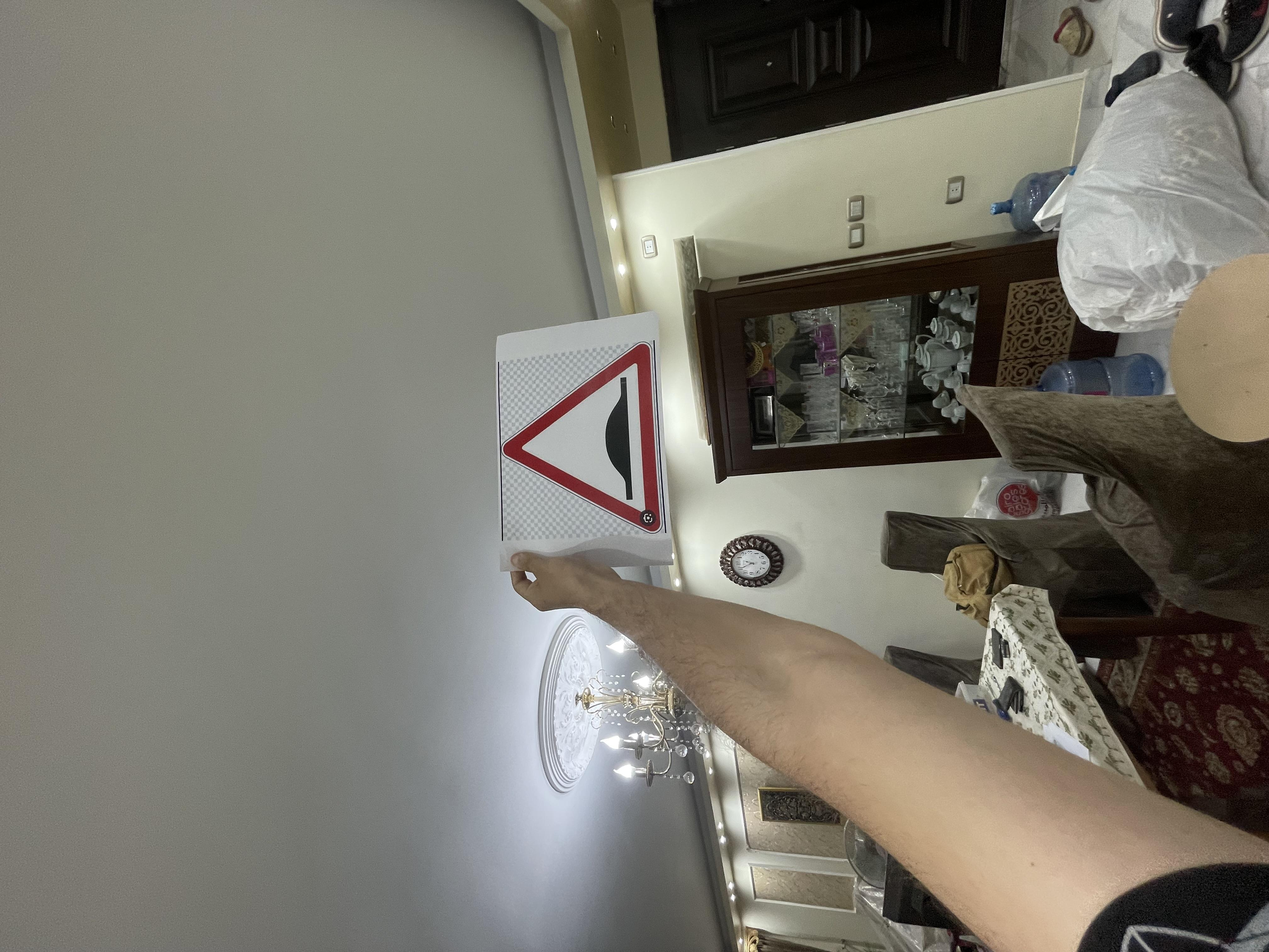Hump: (559, 371, 828, 502)
